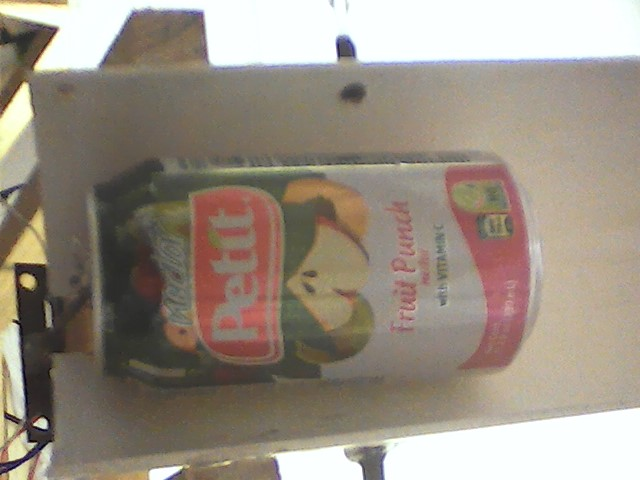lata: (83, 150, 548, 394)
